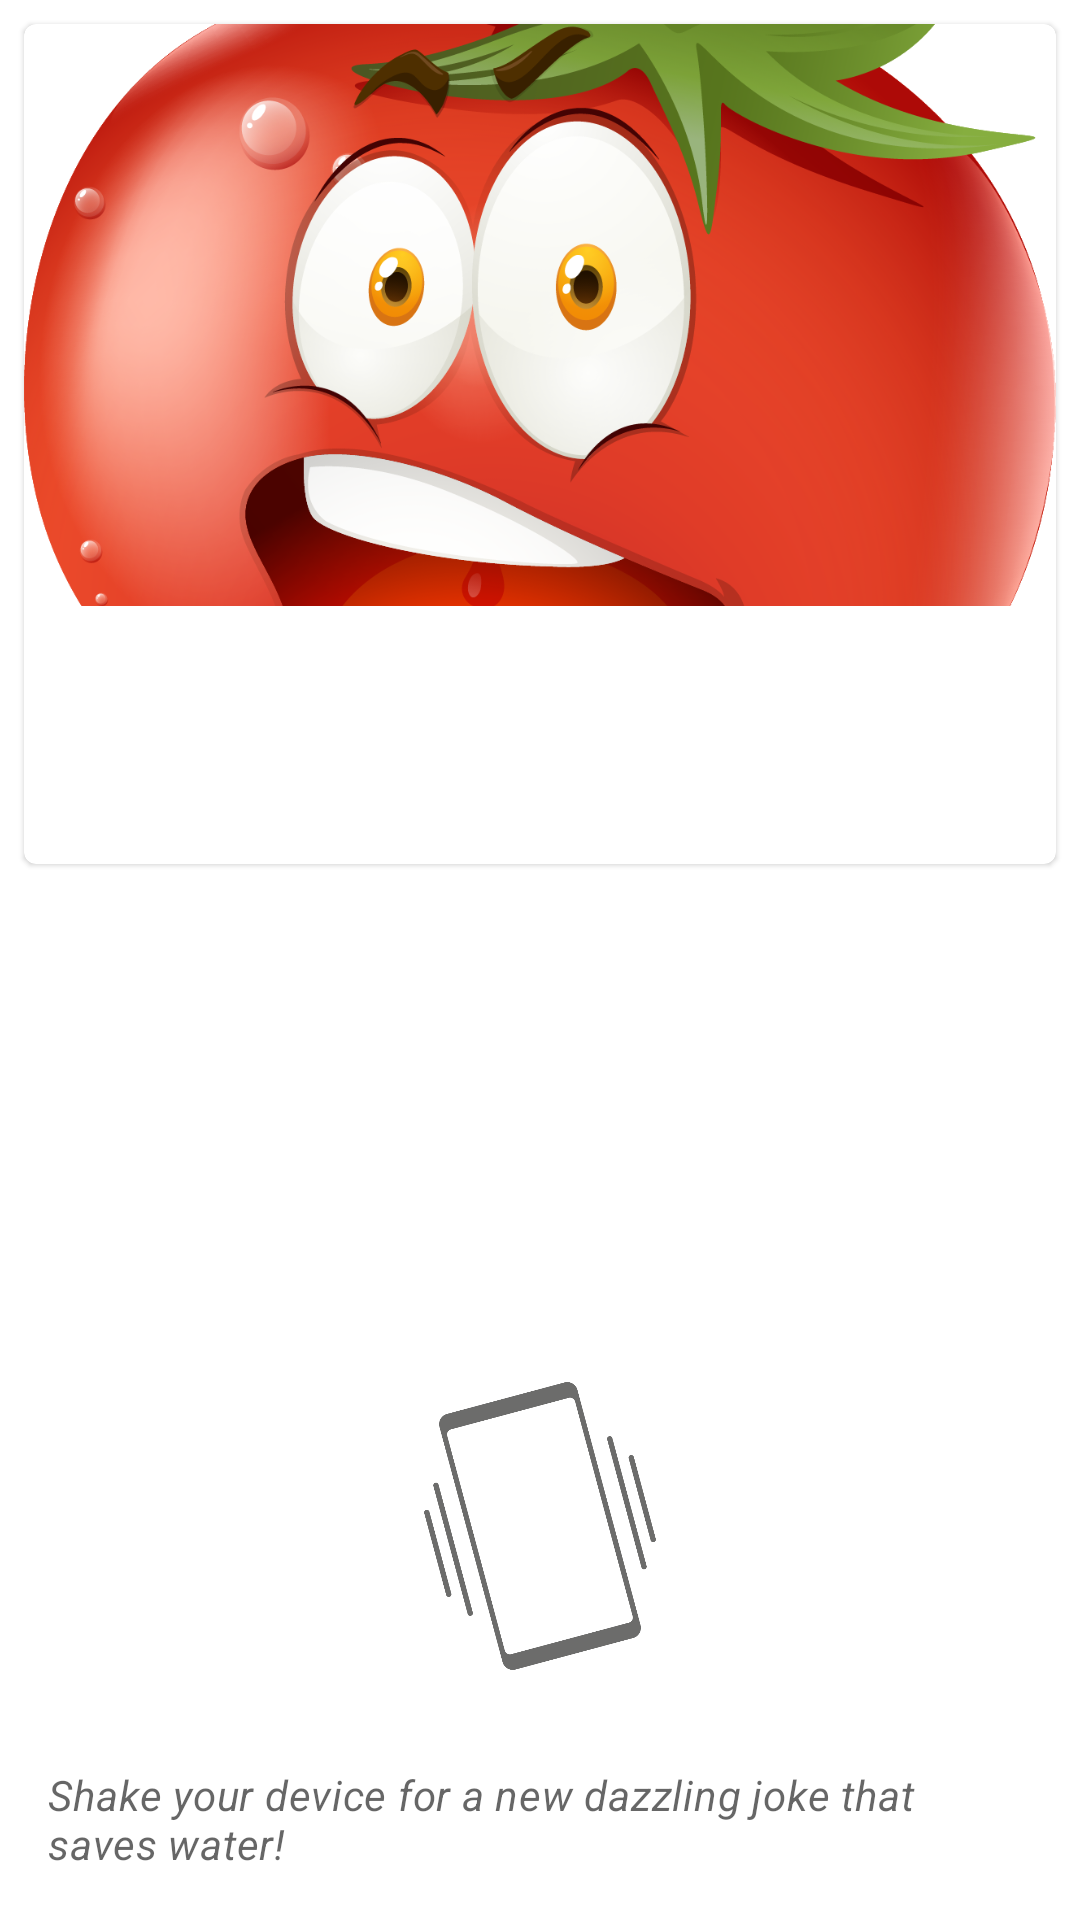

Named icons in this screenshot (1080 × 1920) and their bounding boxes, [x1,y1,x2,y2]:
vibrate: [424,1382,656,1670]
